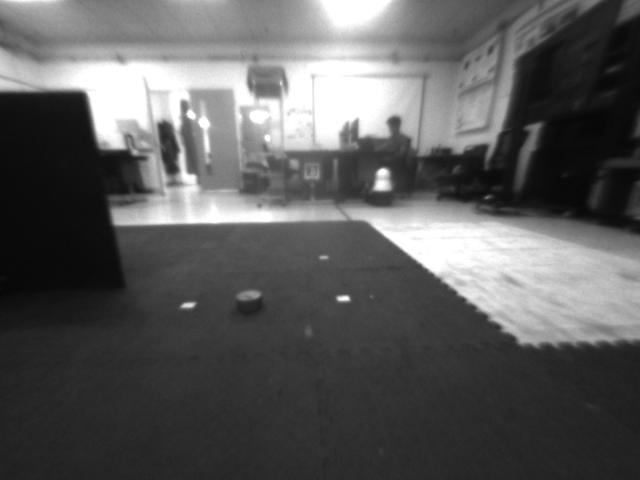dogtoy: (221, 285, 271, 313)
